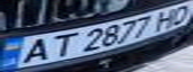2: (78, 25, 106, 53)
7: (130, 14, 160, 39), (115, 17, 142, 44)
8: (103, 21, 124, 48)
A: (9, 35, 57, 65)
H: (148, 7, 187, 33)
O: (163, 2, 193, 29)
T: (39, 31, 81, 60)
